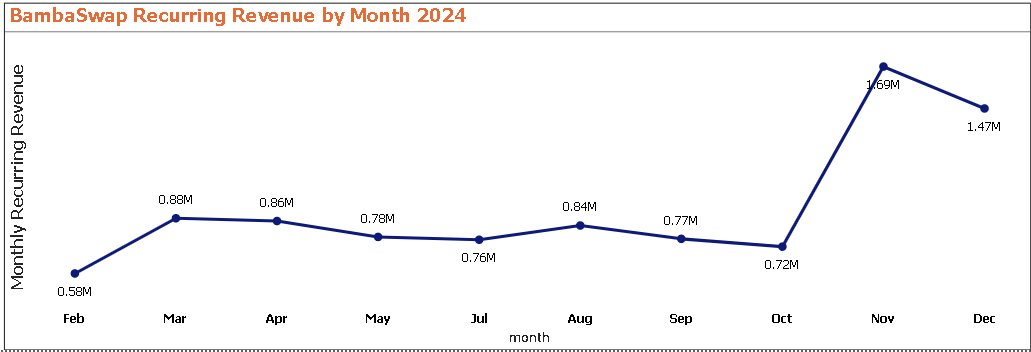

Layout of this report page (visuals, bound fields, positions):
{"tool":"powerbi","page":{"name":"Recurring_Rate","canvas":[1280,720],"ordinal":2},"visuals":[{"type":"lineChart","title":"Monthly Recurring Revenue ","fields":{"Category":["Monthly Recurring Revenue 2024 oct.month"],"Y":["Sum(Monthly Recurring Revenue 2024 oct.monthly_recurring_revenue)"]},"box":[52.9,94.1,1172,497.7],"z":0}]}

Visuals, with their boxes on the page's 1280x720 design canvas (x1, y1, x2, y2). These are canvas units, not pixel positions in the 1031x352 screenshot, which may show the page scaled, cropped or inside an application window:
"Monthly Recurring Revenue " lineChart: BBox(53, 94, 1225, 592)
